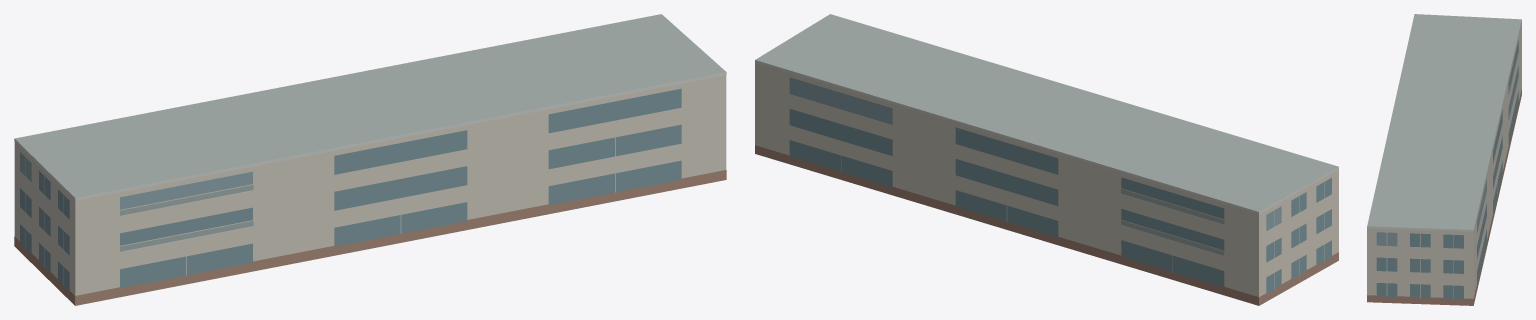
File: survey-upis-32871581.glb
3 views of the same model, side by side, from view 1: azimuth 30°, elevation 25°; view 2: azimuth 150°, elevation 25°; view 3: azimuth 270°, elevation 25° (orthographic). The views are drawn at different scales.
Parts seen in each view (by area): view 1: survey-upis-32871581.tmp; view 2: survey-upis-32871581.tmp; view 3: survey-upis-32871581.tmp.
Part boxes in pixels (left/top/right/bottom): survey-upis-32871581.tmp: left=14, top=14, right=726, bottom=305; survey-upis-32871581.tmp: left=755, top=14, right=1338, bottom=305; survey-upis-32871581.tmp: left=1367, top=14, right=1521, bottom=305.
Bounding box in the file's own units: 55.78 × 9.15 × 16.9.
